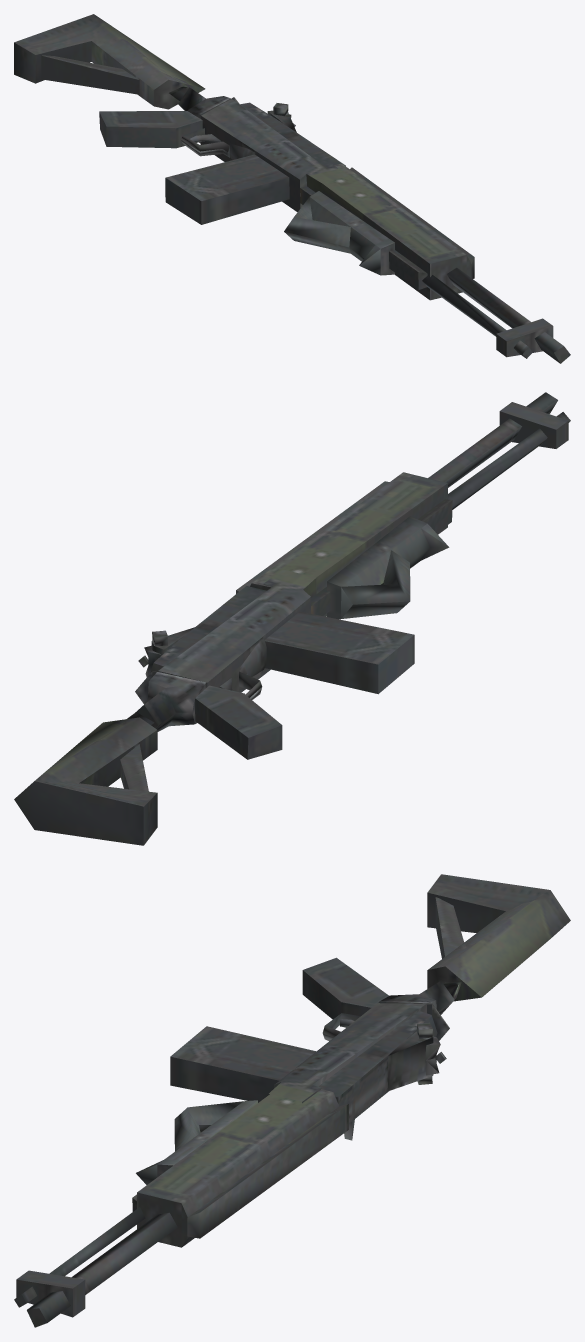
File: Pickup_WeaponBq02.glb
3 renders of one model, top to bottom at view 1: azimuth 30°, elevation 25°; view 2: azimuth 150°, elevation 25°; view 3: azimuth 330°, elevation 25°, orthographic. The views are drawn at different scales.
Parts seen in each view (by area): view 1: pk_weapon_bq02; view 2: pk_weapon_bq02; view 3: pk_weapon_bq02.
Part boxes in pixels (x1=…): pk_weapon_bq02: x1=14, y1=14, x2=570, y2=363; pk_weapon_bq02: x1=14, y1=392, x2=570, y2=845; pk_weapon_bq02: x1=14, y1=874, x2=570, y2=1327.
Size of the model in its own units: 0.7959 by 0.2896 by 3.76.
1 material, 1 textured.
